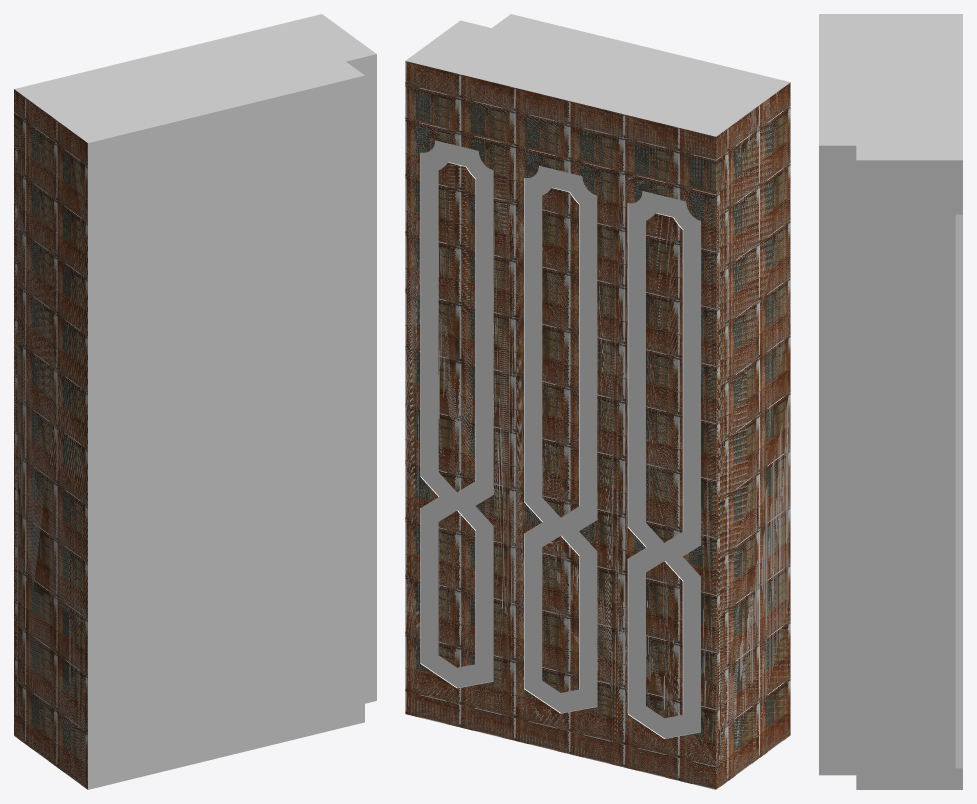
3 renders of one model, left to right at view 1: azimuth 30°, elevation 25°; view 2: azimuth 150°, elevation 25°; view 3: azimuth 270°, elevation 25°, orthographic. The views are drawn at different scales.
Visible parts, largest first — view 1: mesh12_mesh12-geometry, mesh1_mesh1-geometry; view 2: mesh1_mesh1-geometry, mesh12_mesh12-geometry; view 3: mesh12_mesh12-geometry, mesh1_mesh1-geometry.
Part boxes in pixels (box(x1,y1,x2,y2)): mesh12_mesh12-geometry: box(14, 14, 376, 789); mesh1_mesh1-geometry: box(14, 145, 17, 715); mesh1_mesh1-geometry: box(405, 117, 719, 767); mesh12_mesh12-geometry: box(405, 14, 790, 789); mesh12_mesh12-geometry: box(819, 14, 962, 789); mesh1_mesh1-geometry: box(955, 214, 962, 768).
Bounding box in the file's own units: 0.4385 × 0.8801 × 0.1821.
